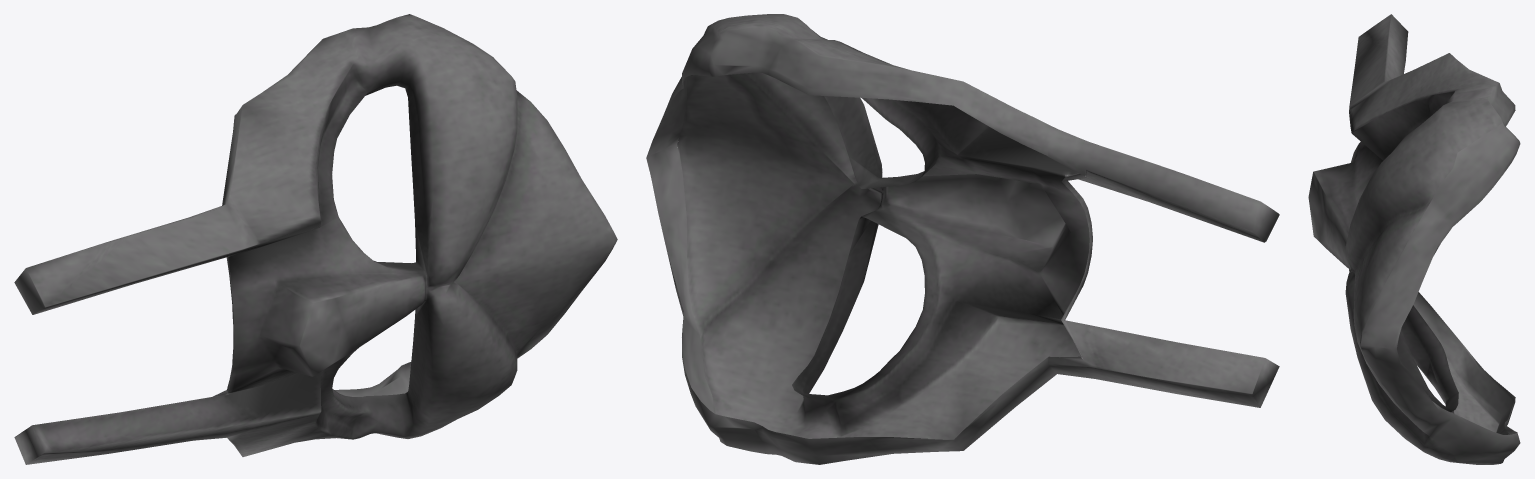
Rendered from M_MFDoom.fbx.
The picture shows the model from 3 angles, left to right: view 1: azimuth 30°, elevation 25°; view 2: azimuth 150°, elevation 25°; view 3: azimuth 270°, elevation 25°; orthographic projection. The views are drawn at different scales.
Parts seen in each view (by area): view 1: Doom; view 2: Doom; view 3: Doom.
Part boxes in pixels (left/top/right/bottom): Doom: left=14, top=14, right=617, bottom=464; Doom: left=646, top=14, right=1279, bottom=464; Doom: left=1308, top=14, right=1520, bottom=464.
Bounding box in the file's own units: 0.1642 × 0.1093 × 0.0589.
